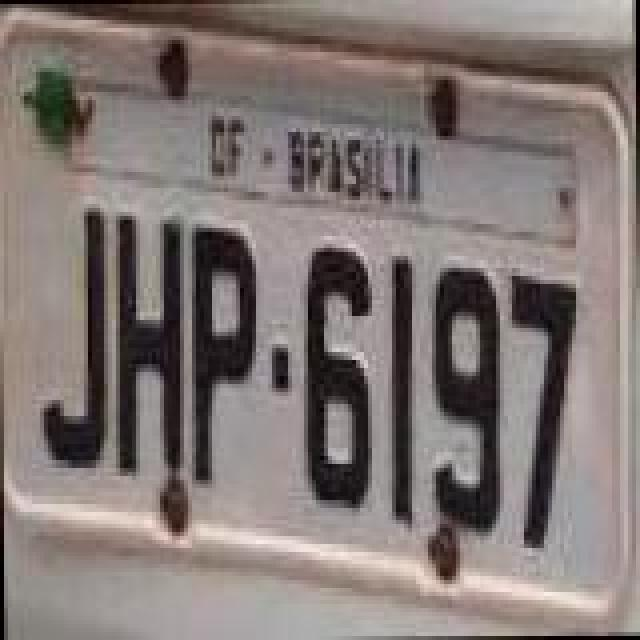1: (388, 250, 416, 530)
6: (298, 244, 374, 508)
7: (508, 268, 584, 556)
9: (426, 262, 506, 542)
H: (114, 210, 190, 482)
J: (34, 200, 110, 472)
P: (188, 222, 260, 486)
